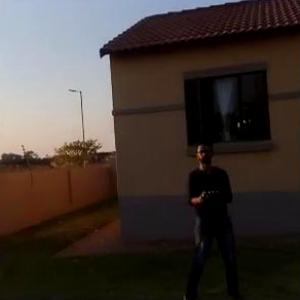follow: (170, 131, 242, 299)
